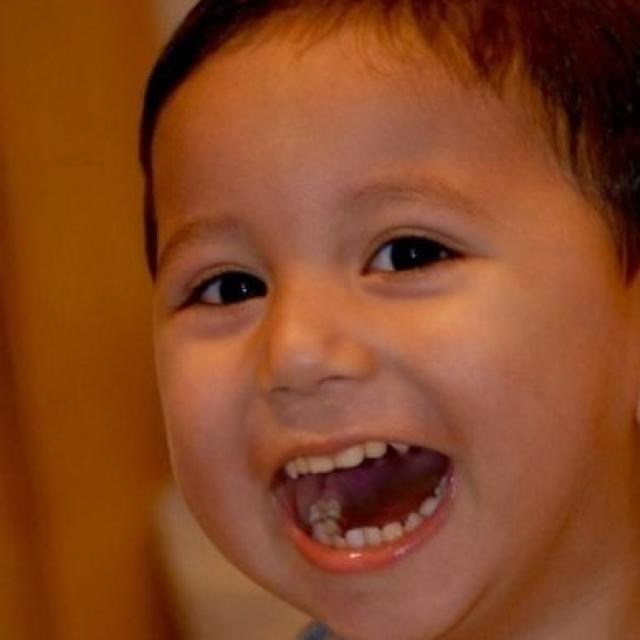Normal: (149, 13, 633, 638)
